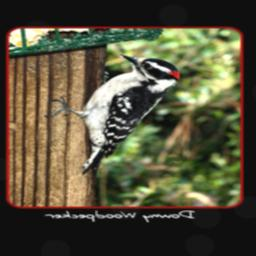Woodpecker: (40, 54, 181, 173)
